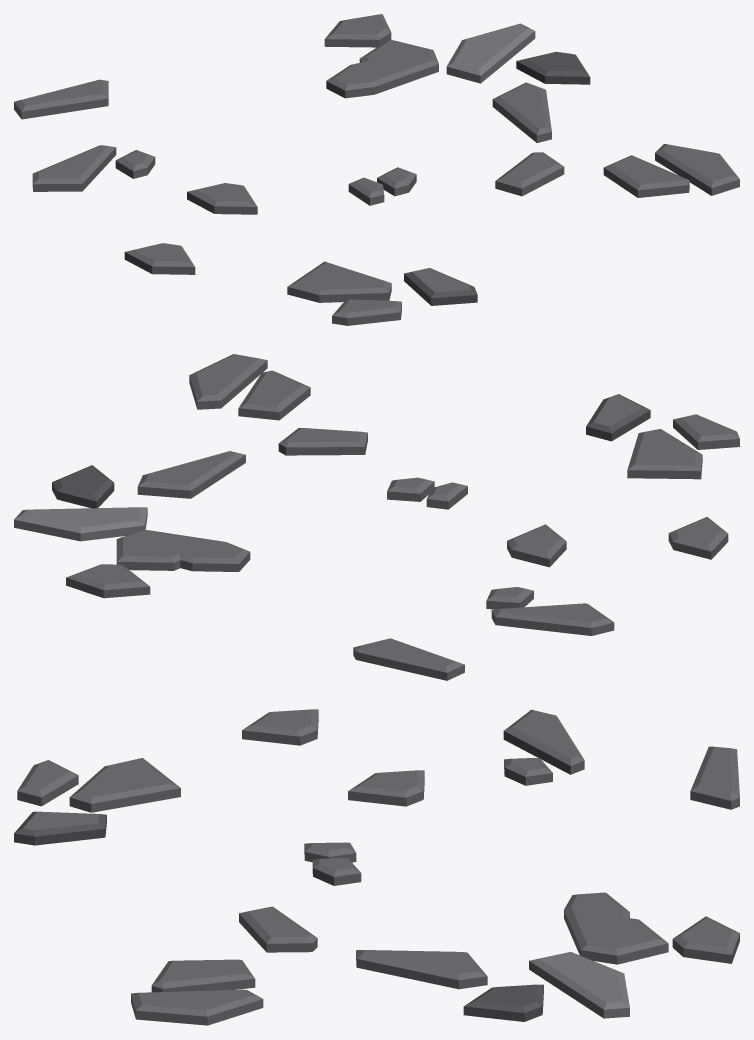
The model's file is SM_Env_Path_Stone_03.gltf.
3 renders of one model, top to bottom at view 1: azimuth 30°, elevation 25°; view 2: azimuth 150°, elevation 25°; view 3: azimuth 270°, elevation 25°, orthographic. The views are drawn at different scales.
Visible parts, largest first — view 1: SM_Env_Path_Stone_03; view 2: SM_Env_Path_Stone_03; view 3: SM_Env_Path_Stone_03.
Part boxes in pixels (box(x1,y1,x2,y2)): SM_Env_Path_Stone_03: box(14, 14, 739, 325); SM_Env_Path_Stone_03: box(14, 354, 739, 680); SM_Env_Path_Stone_03: box(14, 709, 739, 1025).
Bounding box in the file's own units: 2.89 × 0.0539 × 2.89.
1 material, 1 textured.
